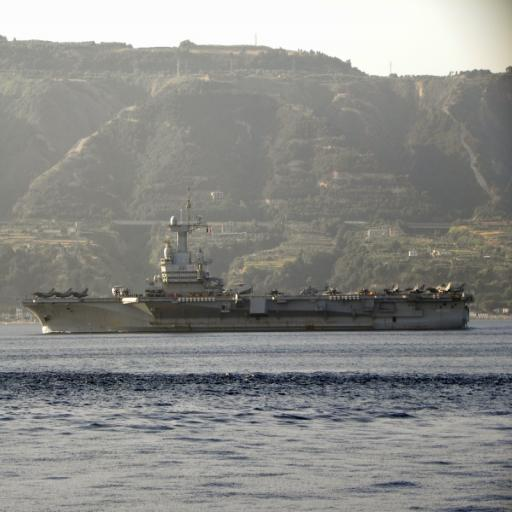Portanaves: (20, 183, 479, 338)
